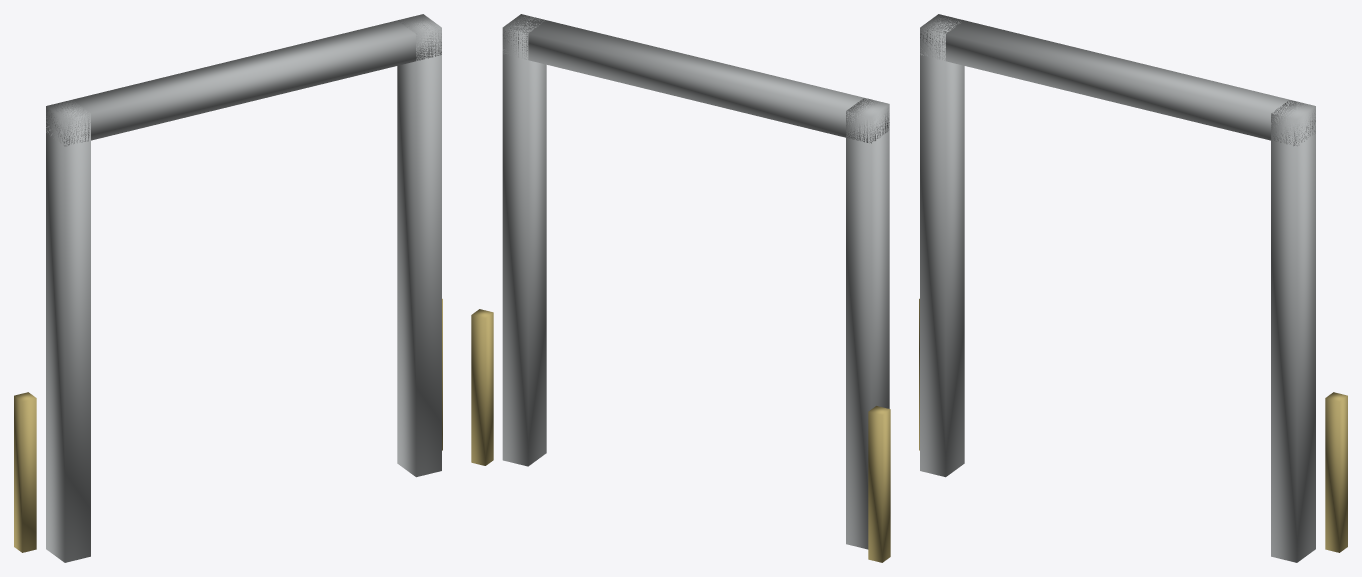
File: stair_shaft_industrial_w180_h220_d18.glb
3 views of the same model, side by side, from view 1: azimuth 30°, elevation 25°; view 2: azimuth 150°, elevation 25°; view 3: azimuth 330°, elevation 25° (orthographic). The views are drawn at different scales.
Parts seen in each view (by area): view 1: world; view 2: world; view 3: world.
Part boxes in pixels (x1,y1,x2,y2): world: [14, 14, 442, 562]; world: [471, 14, 890, 562]; world: [919, 14, 1347, 562].
Size of the model in its own units: 2.33 by 2.34 by 0.28.
